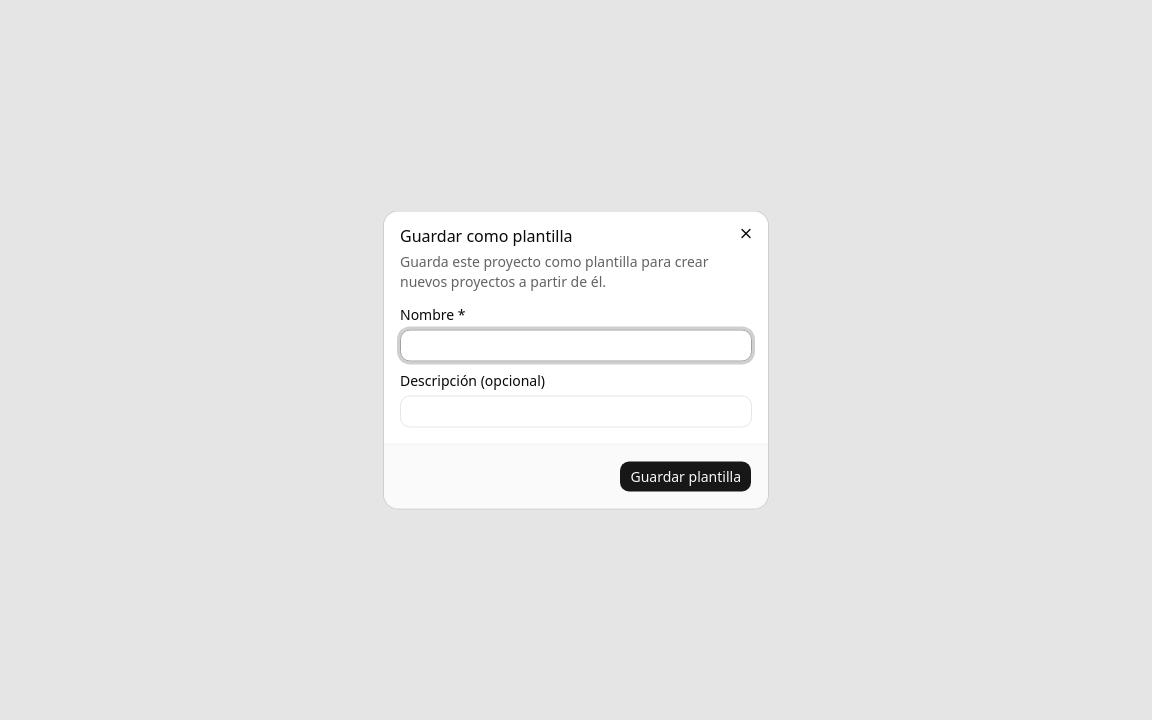
DialogoGuardarComoPlantilla › nombre vacío muestra error
Click the button "Guardar plantilla" at (686, 476), box [619,460,752,492]
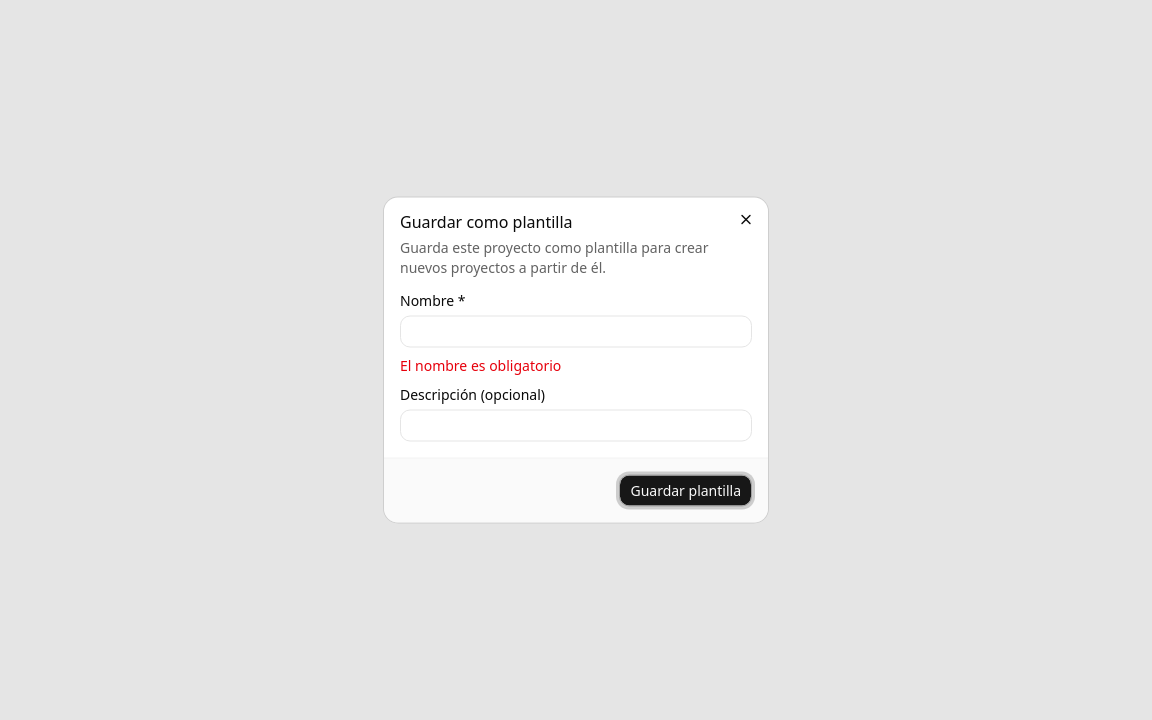
Result: the text "El nombre es obligatorio" is shown at [400,356,561,374]
